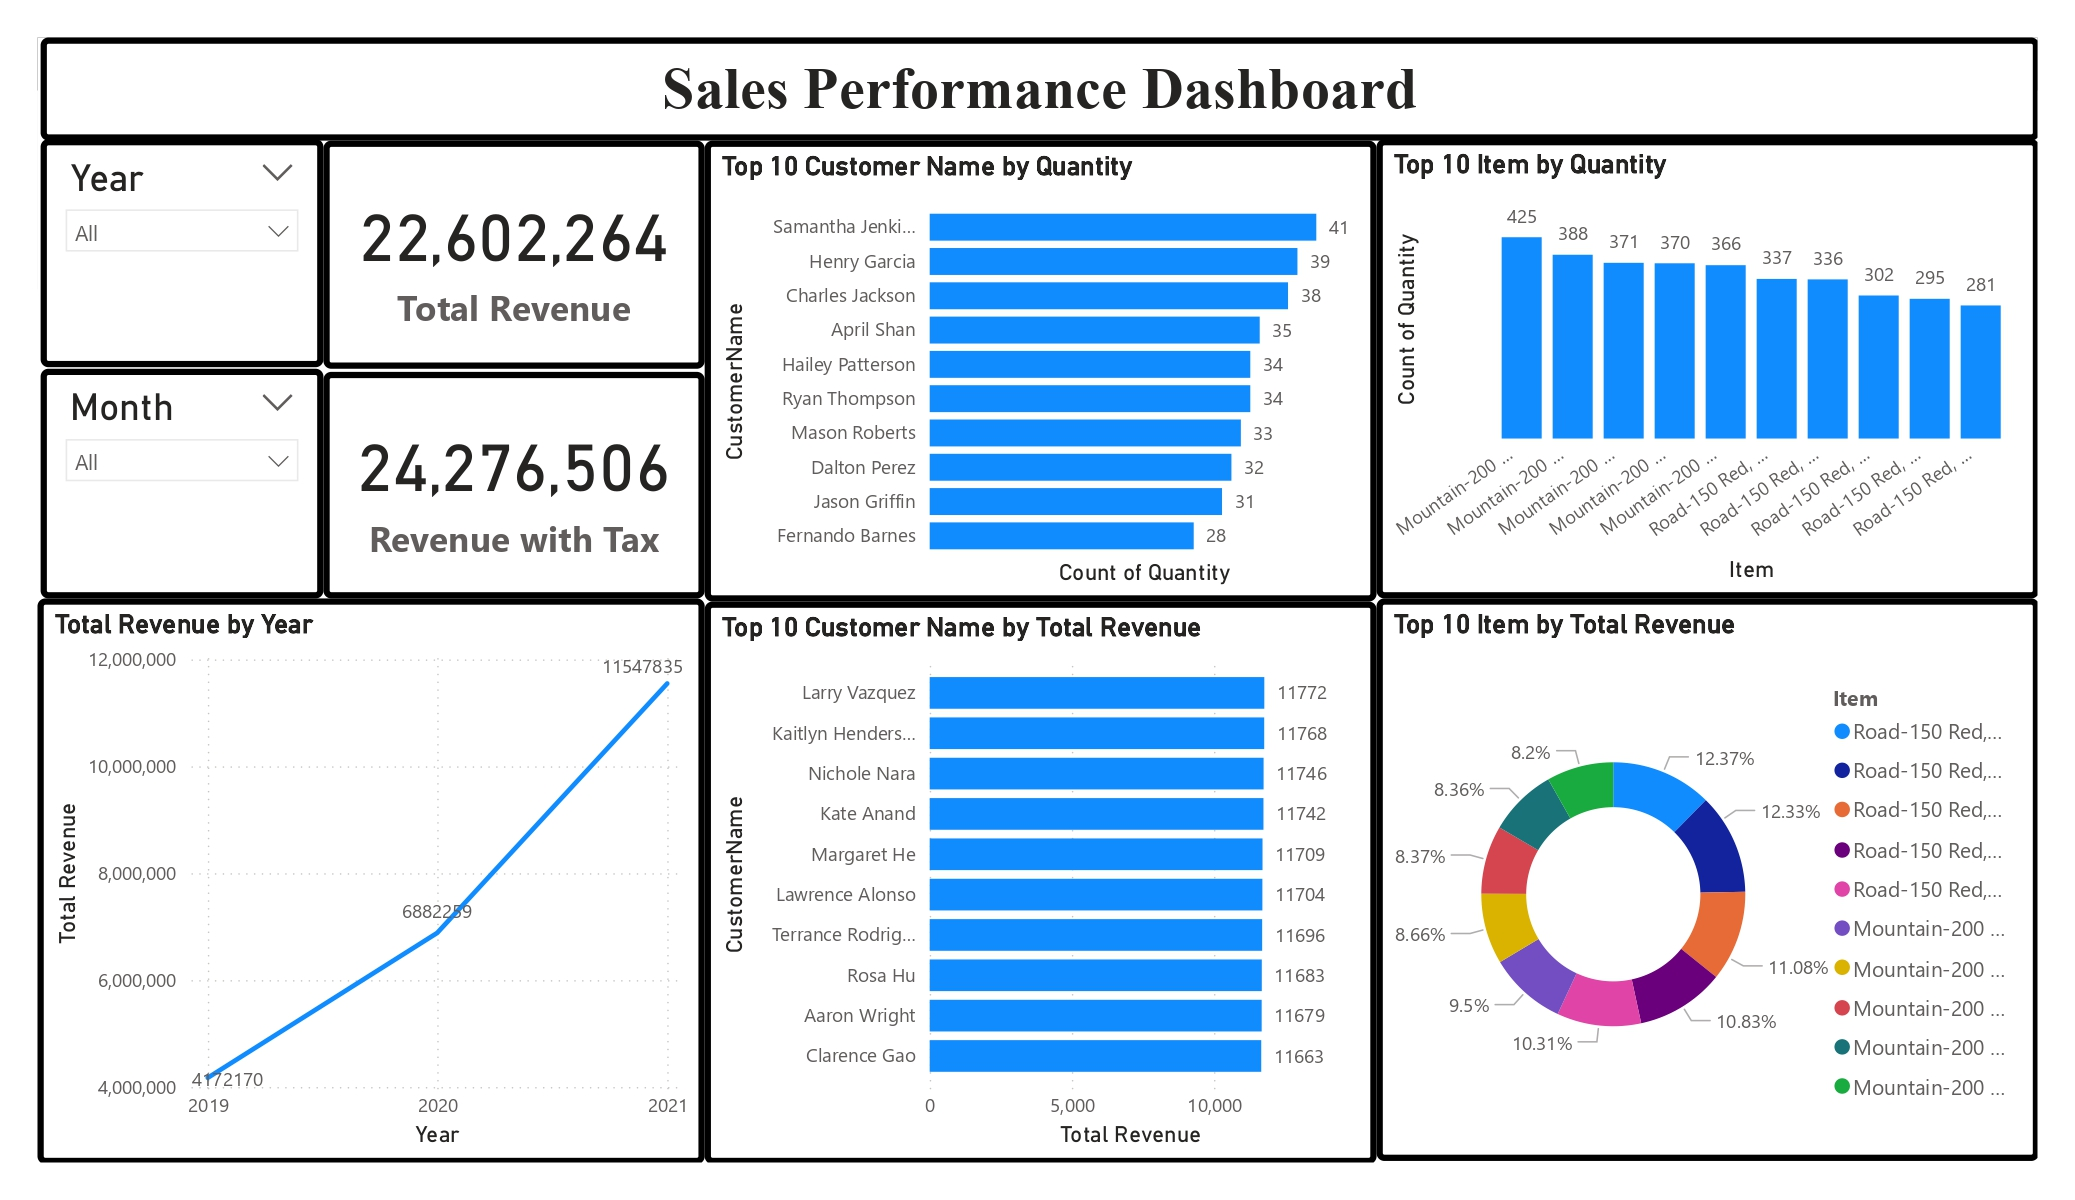

The dashboard page shown, as its layout file describes it:
{"tool":"powerbi","page":{"name":"Page 1","canvas":[1280,720],"ordinal":0},"visuals":[{"type":"card","fields":{"Values":["sales.Total Revenue"]},"box":[183,66.4,244.5,145.7],"z":0},{"type":"card","fields":{"Values":["sales.Revenue with Tax"]},"box":[183,213.7,244.5,145.7],"z":1000},{"type":"lineChart","fields":{"Category":["sales.OrderDate.Variation.Date Hierarchy.Year","sales.OrderDate.Variation.Date Hierarchy.Quarter","sales.OrderDate.Variation.Date Hierarchy.Month"],"Y":["sales.Total Revenue"]},"box":[0,359.5,427.5,361.1],"z":2000},{"type":"clusteredBarChart","title":"Top 10 Customer Name by Total Revenue","fields":{"Category":["sales.CustomerName"],"Y":["sales.Total Revenue"]},"box":[427.5,361.1,429.1,359.5],"z":3000},{"type":"donutChart","title":"Top 10 Item by Total Revenue","fields":{"Y":["sales.Total Revenue"],"Category":["sales.Item"]},"box":[856.6,359.5,424.2,359.5],"z":4000},{"type":"barChart","title":"Top 10 Customer Name by Quantity","fields":{"Category":["sales.CustomerName"],"Y":["CountNonNull(sales.Quantity)"]},"box":[427.5,66.4,429.1,294.7],"z":5000},{"type":"columnChart","title":"Top 10 Item by Quantity","fields":{"Category":["sales.Item"],"Y":["CountNonNull(sales.Quantity)"]},"box":[856.6,64.8,424.2,294.7],"z":6000},{"type":"slicer","fields":{"Values":["sales.OrderDate.Variation.Date Hierarchy.Year"]},"box":[1.6,64.8,181.4,146],"z":7000},{"type":"slicer","fields":{"Values":["sales.OrderDate.Variation.Date Hierarchy.Month"]},"box":[1.7,211.7,181.7,147],"z":8000},{"type":"textbox","box":[1.6,0,1279.2,66.4],"z":9000}]}

Visuals, with their boxes in screenshot pixels (x1, y1, x2, y2):
card - sales.Total Revenue: bbox=(331, 140, 708, 365)
card - sales.Revenue with Tax: bbox=(331, 367, 708, 592)
lineChart - sales.OrderDate.Variation.Date Hierarchy.Year x sales.OrderDate.Variation.Date Hierarchy.Quarter: bbox=(49, 592, 708, 1149)
"Top 10 Customer Name by Total Revenue" clusteredBarChart: bbox=(708, 595, 1370, 1149)
"Top 10 Item by Total Revenue" donutChart: bbox=(1370, 592, 2024, 1147)
"Top 10 Customer Name by Quantity" barChart: bbox=(708, 140, 1370, 595)
"Top 10 Item by Quantity" columnChart: bbox=(1370, 138, 2024, 592)
slicer - sales.OrderDate.Variation.Date Hierarchy.Year: bbox=(51, 138, 331, 363)
slicer - sales.OrderDate.Variation.Date Hierarchy.Month: bbox=(51, 364, 331, 591)
textbox: bbox=(51, 38, 2024, 140)
